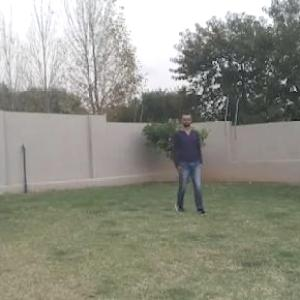follow: (178, 113, 203, 209)
